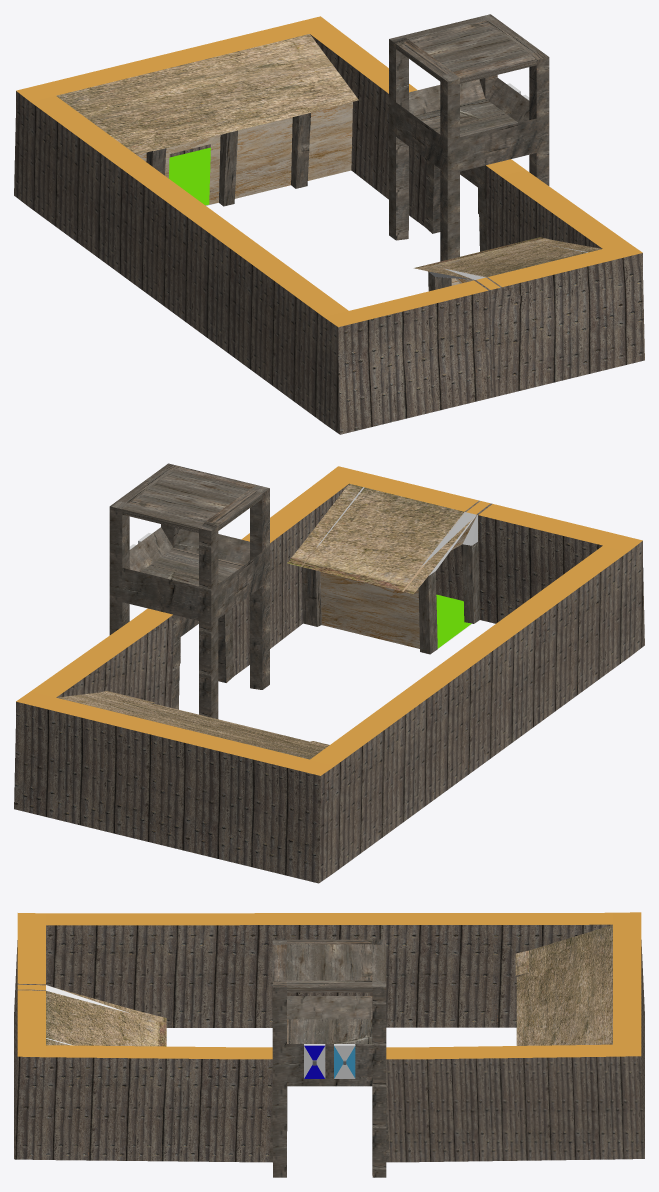
File: caserne_mid.glb
3 views of the same model, one above another, from view 1: azimuth 30°, elevation 25°; view 2: azimuth 150°, elevation 25°; view 3: azimuth 270°, elevation 25° (orthographic). The views are drawn at different scales.
Visible parts, largest first — view 1: Cube; view 2: Cube; view 3: Cube.
Boxes of the visible parts, x1,y1,x2,y2 form: Cube: (14,14,644,434); Cube: (14,463,644,883); Cube: (14,912,644,1177).
Size of the model in its own units: 13.73 by 7.59 by 22.25.
10 materials, 4 textured.
